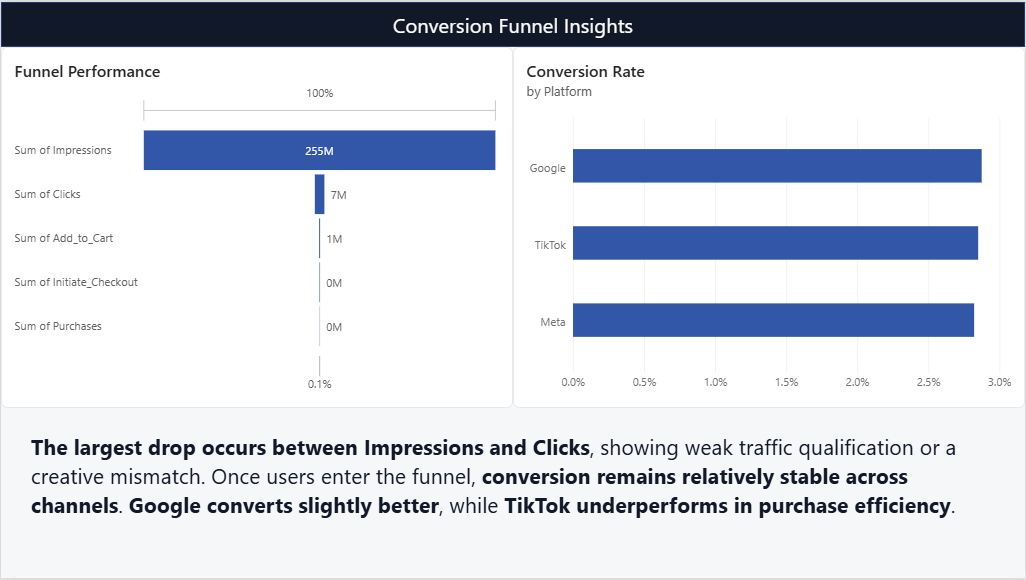

What the dashboard file says about the page in this screenshot:
{"tool":"powerbi","page":{"name":"Conversion Funnel Insights","canvas":[1280,720],"ordinal":3},"visuals":[{"type":"shape","box":[0,0,1280,56.2],"z":0},{"type":"funnel","title":"Funnel Performance","fields":{"Y":["Sum(fact_campaigns.Impressions)","Sum(fact_campaigns.Clicks)","Sum(fact_campaigns.Add_to_Cart)","Sum(fact_campaigns.Initiate_Checkout)","Sum(fact_campaigns.Purchases)"]},"box":[0,56.2,640,451.2],"z":1000},{"type":"clusteredBarChart","fields":{"Category":["dim_platform.Platform"],"Y":["Formulas.Conversion Rate"]},"box":[640,56.2,640,451.2],"z":2000},{"type":"textbox","box":[37.9,537.7,1204.2,132.2],"z":3000}]}

Visuals, with their boxes in screenshot pixels (x1, y1, x2, y2), scaled from the page's 1280x720 canvas onto the 1026x580 screenshot:
shape: 0 0 1025 45
"Funnel Performance" funnel: 0 45 513 409
clusteredBarChart - dim_platform.Platform x Formulas.Conversion Rate: 513 45 1025 409
textbox: 30 433 996 540
